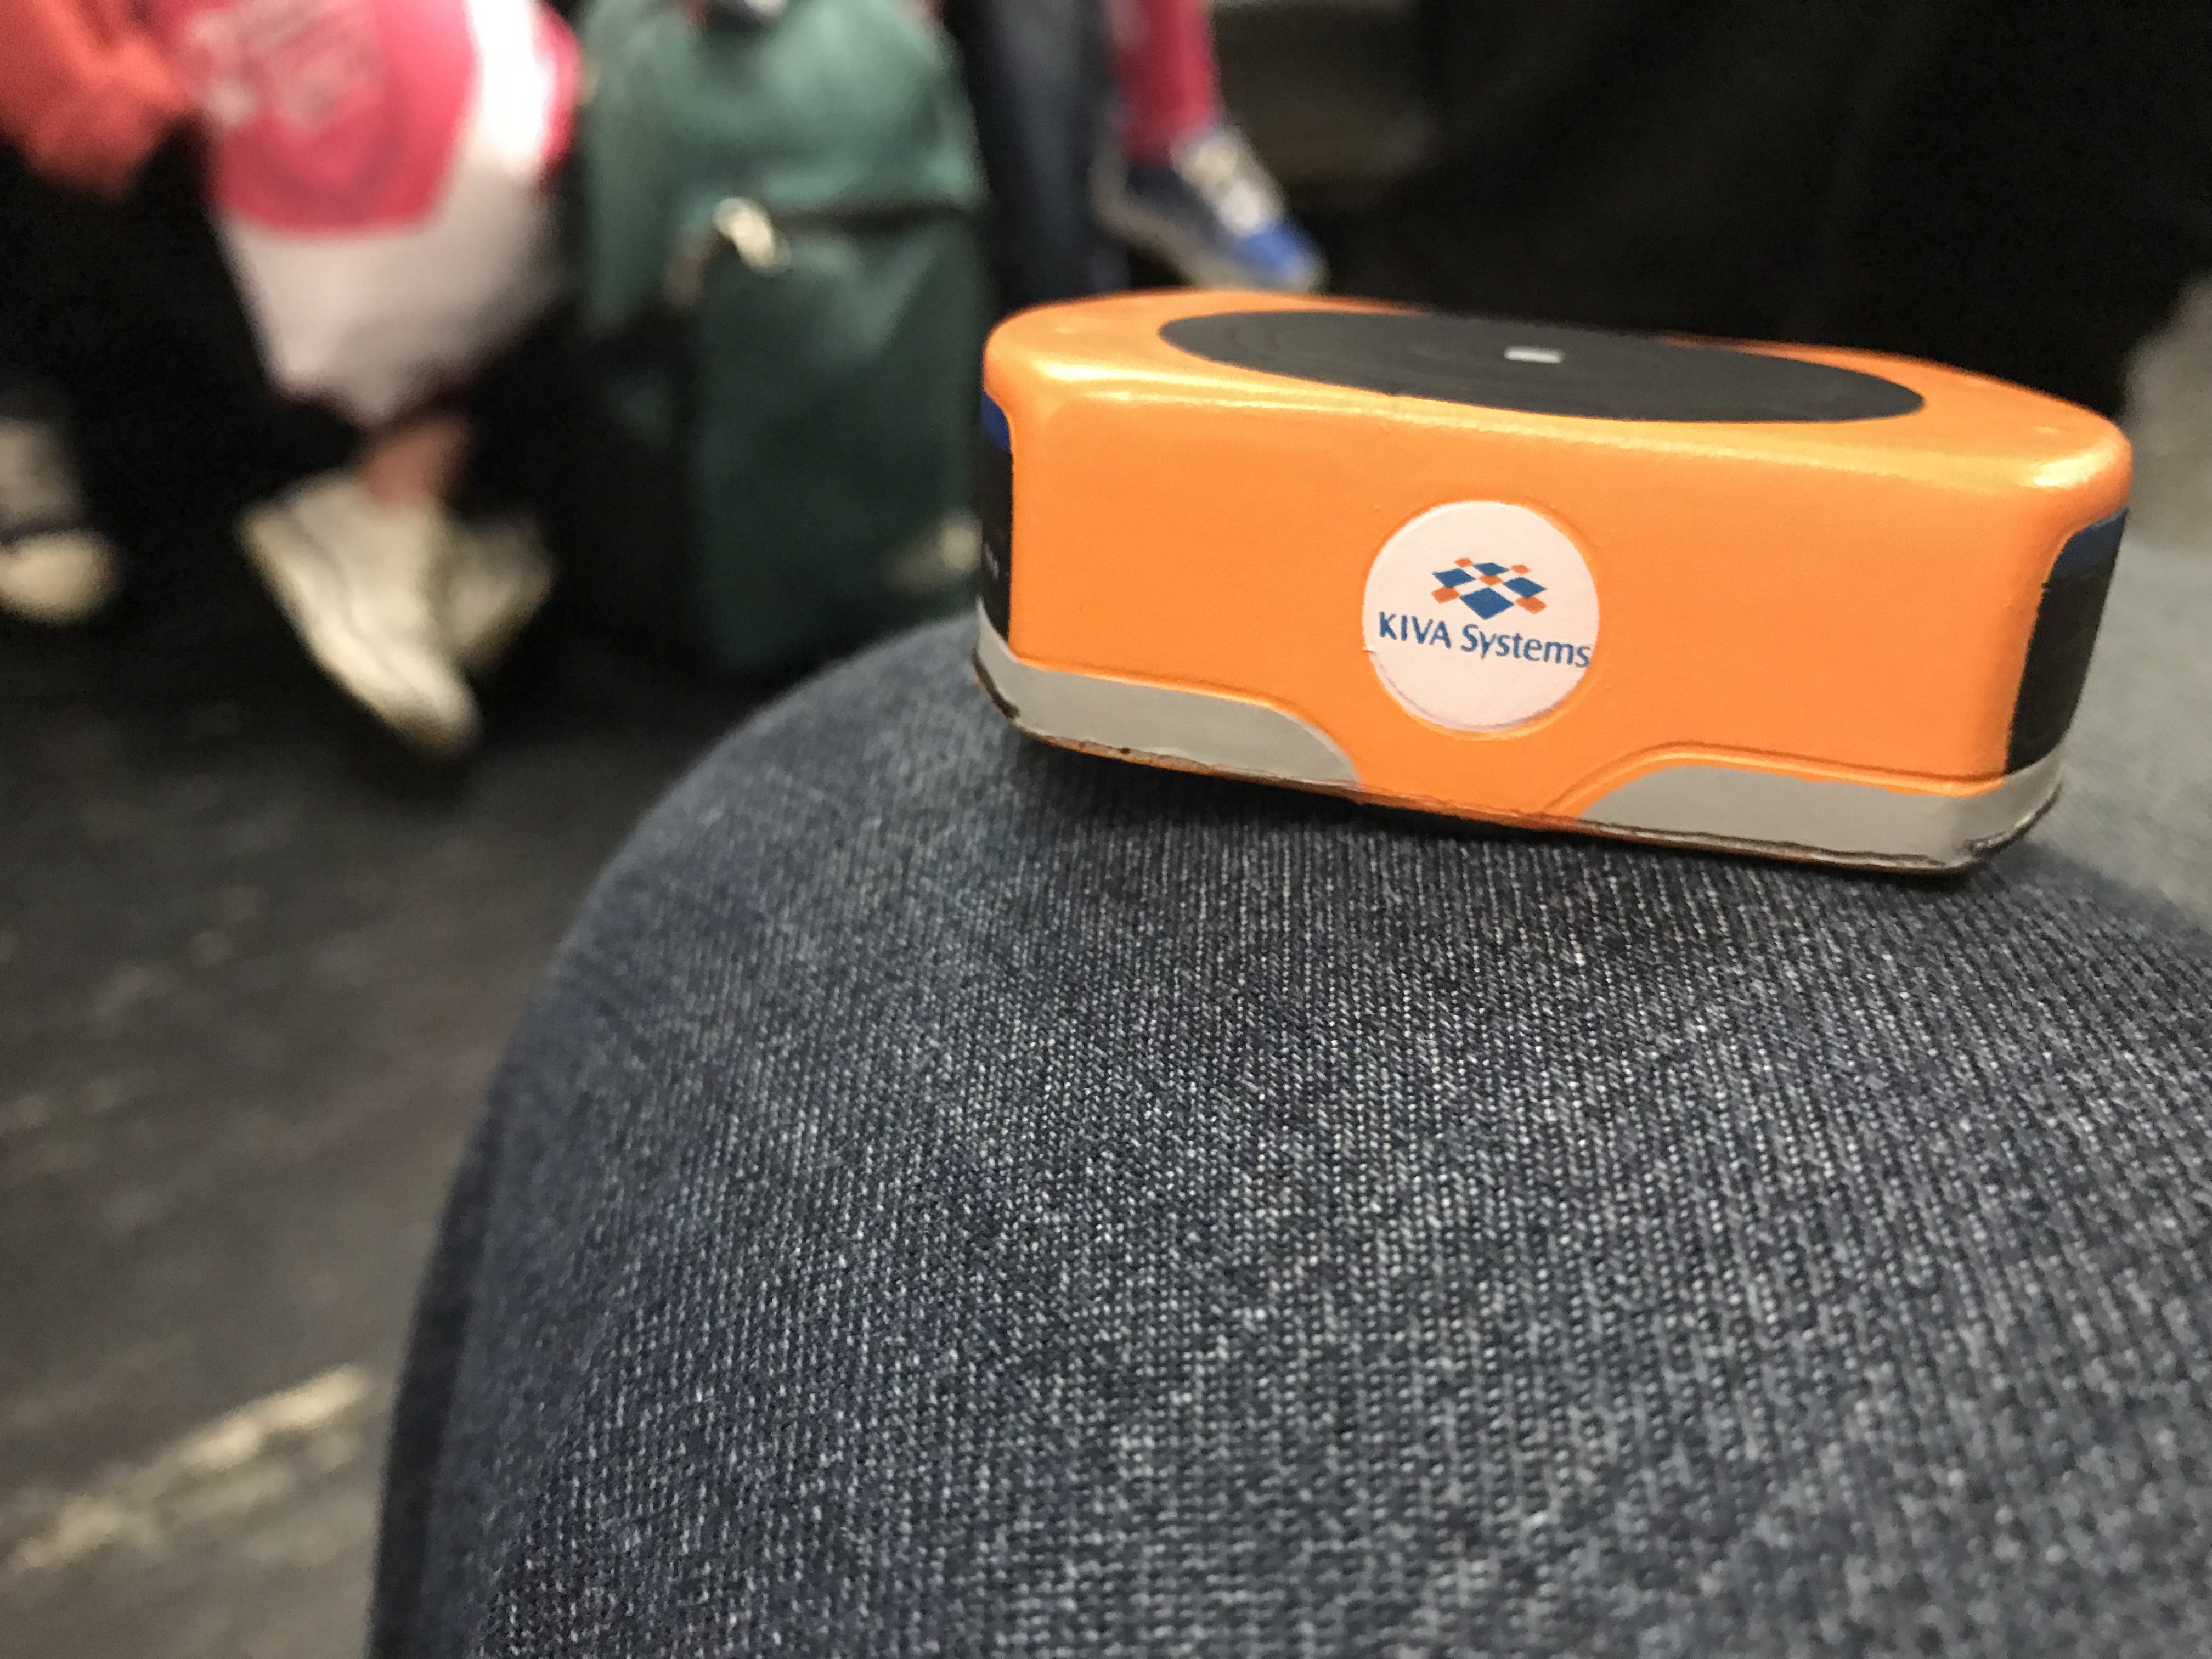amazon_bot: (932, 249, 2156, 910)
